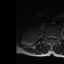CCS_normal: (50, 32, 53, 43)
LFS_normal: (55, 33, 57, 41)
LLS_normal: (53, 32, 55, 41)
RFS_normal: (46, 33, 48, 40)
RLS_normal: (48, 33, 50, 40)
